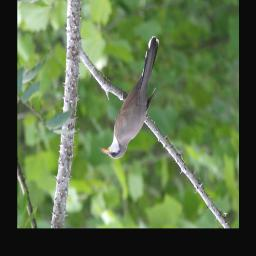Cuckoo: (99, 35, 161, 161)
